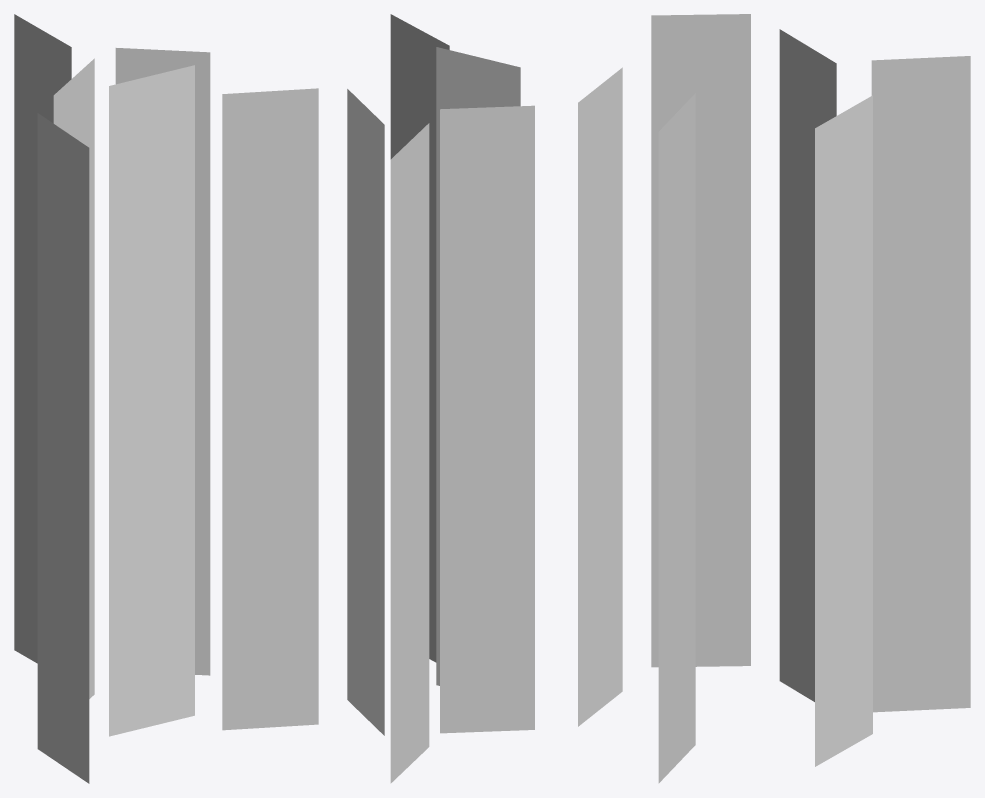
File: Reeds.fbx
The picture shows the model from 3 angles, left to right: view 1: azimuth 30°, elevation 25°; view 2: azimuth 150°, elevation 25°; view 3: azimuth 270°, elevation 25°; orthographic projection. The views are drawn at different scales.
Visible parts, largest first — view 1: Plane.004, Plane, Plane.005, Plane.003, Plane.002, Plane.001; view 2: Plane.001, Plane.005, Plane.003, Plane.002, Plane.004, Plane; view 3: Plane.003, Plane.005, Plane.002, Plane.001, Plane.004.
Boxes of the visible parts, x1,y1,x2,y2 form: Plane.004: [222, 88, 318, 730]; Plane: [109, 65, 194, 736]; Plane.005: [37, 113, 89, 783]; Plane.003: [14, 14, 71, 663]; Plane.002: [115, 48, 210, 675]; Plane.001: [53, 58, 94, 698]; Plane.001: [440, 105, 534, 733]; Plane.005: [578, 67, 622, 726]; Plane.003: [390, 123, 429, 783]; Plane.002: [347, 89, 384, 735]; Plane.004: [390, 14, 449, 662]; Plane: [436, 47, 520, 685]; Plane.003: [871, 56, 970, 712]; Plane.005: [651, 14, 750, 667]; Plane.002: [815, 95, 872, 766]; Plane.001: [779, 29, 836, 701]; Plane.004: [658, 93, 695, 783].
Bounding box in the file's own units: 548 × 1447 × 627.
